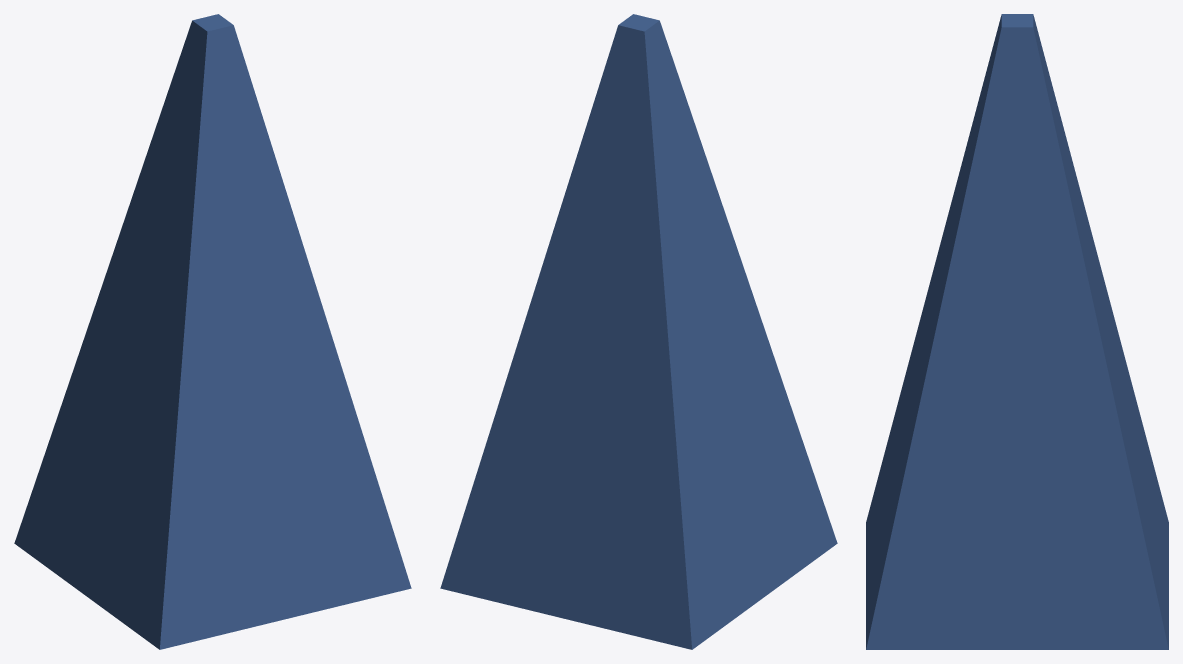
The model's file is tree-winter-leaves-014.glb.
3 renders of one model, left to right at view 1: azimuth 30°, elevation 25°; view 2: azimuth 150°, elevation 25°; view 3: azimuth 270°, elevation 25°, orthographic. The views are drawn at different scales.
Visible parts, largest first — view 1: Cube.058_141; view 2: Cube.058_141; view 3: Cube.058_141.
Boxes of the visible parts, x1,y1,x2,y2 form: Cube.058_141: (14, 14, 411, 649); Cube.058_141: (440, 14, 837, 649); Cube.058_141: (866, 14, 1168, 649).
Bounding box in the file's own units: 0.617 × 1.27 × 0.617.
